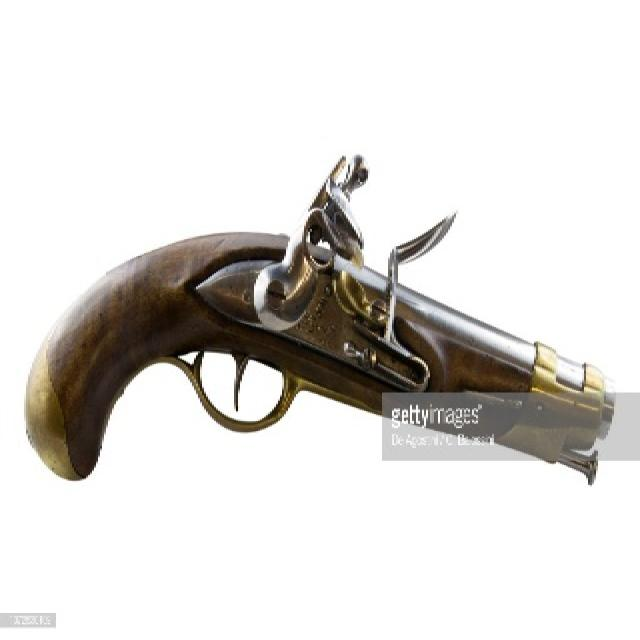handgun: (19, 146, 617, 509)
